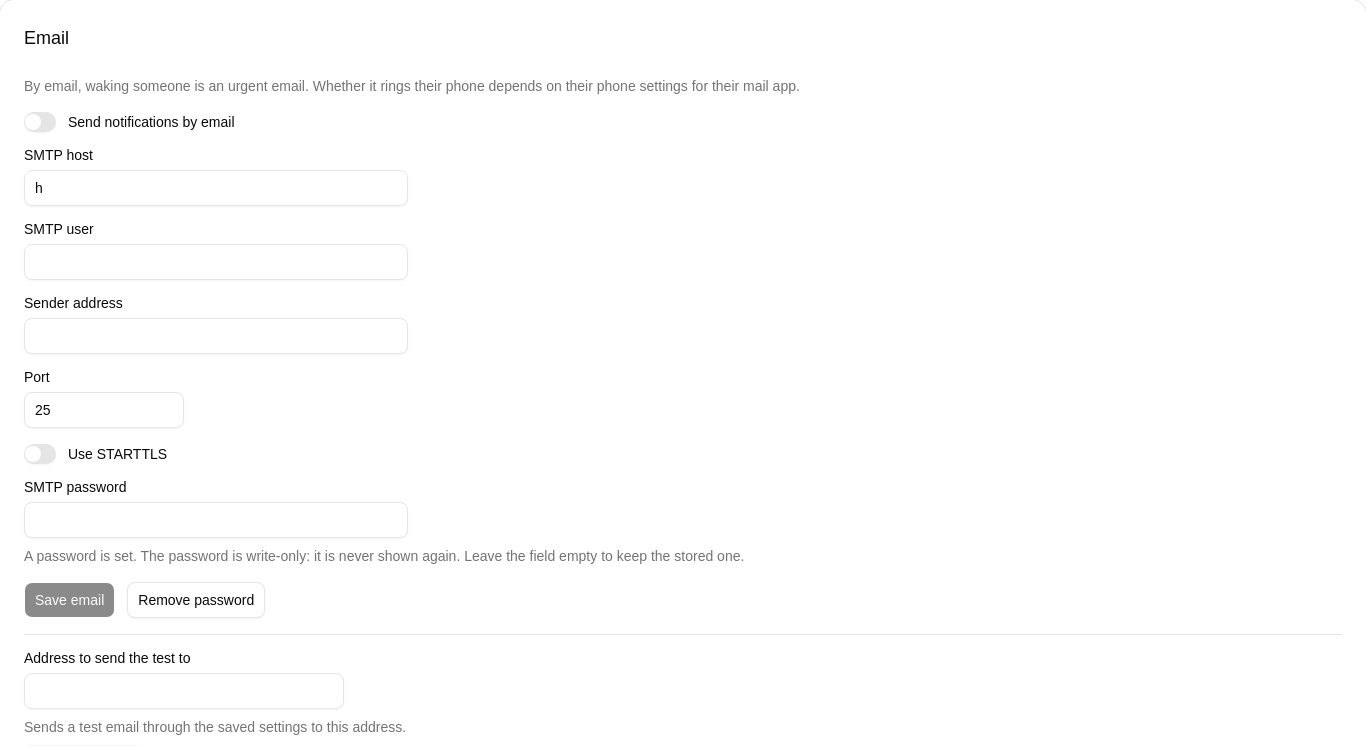
Scenario: sends a null password, keeping the stored one, when the field is empty
The image size is (1366, 746).
Click the switch named "Use STARTTLS" at point(40, 454), box top-left (24, 444), bottom-right (56, 464)
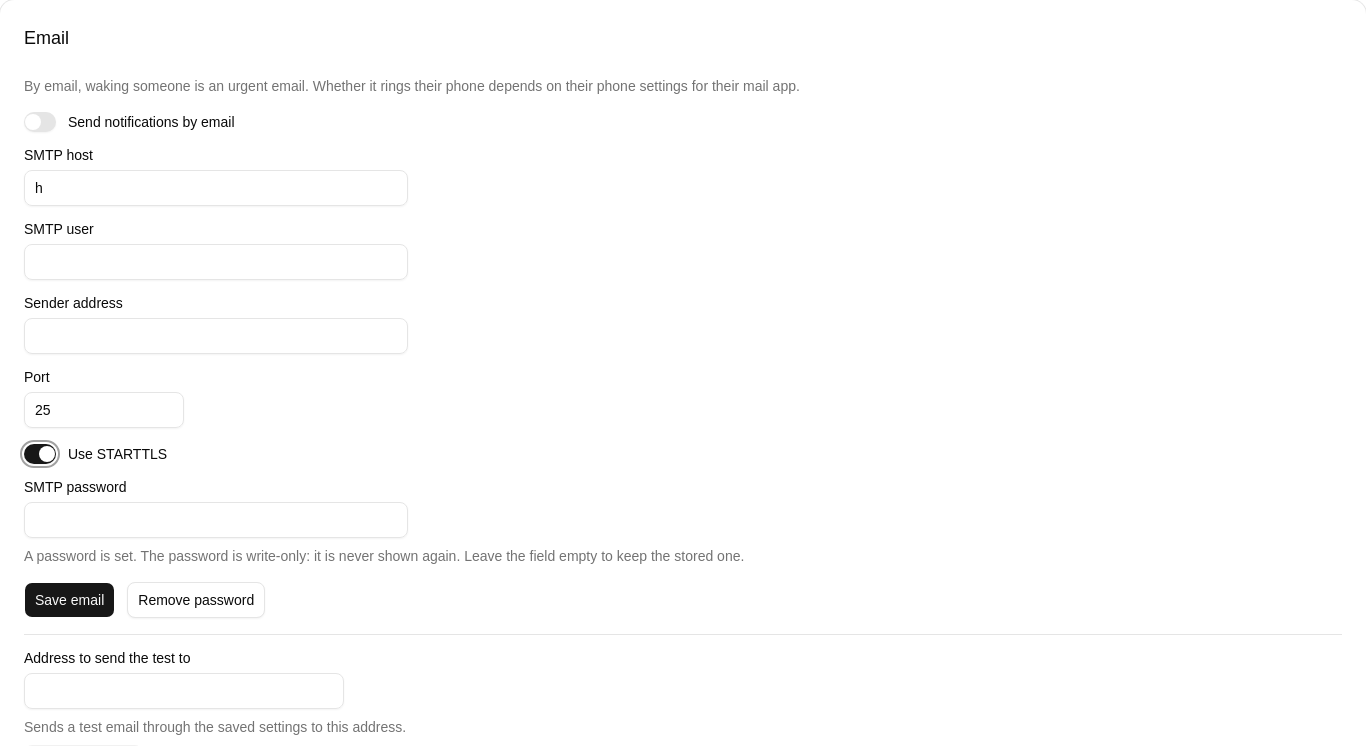
Click the button "Save email" at point(70, 600), box top-left (24, 582), bottom-right (115, 618)
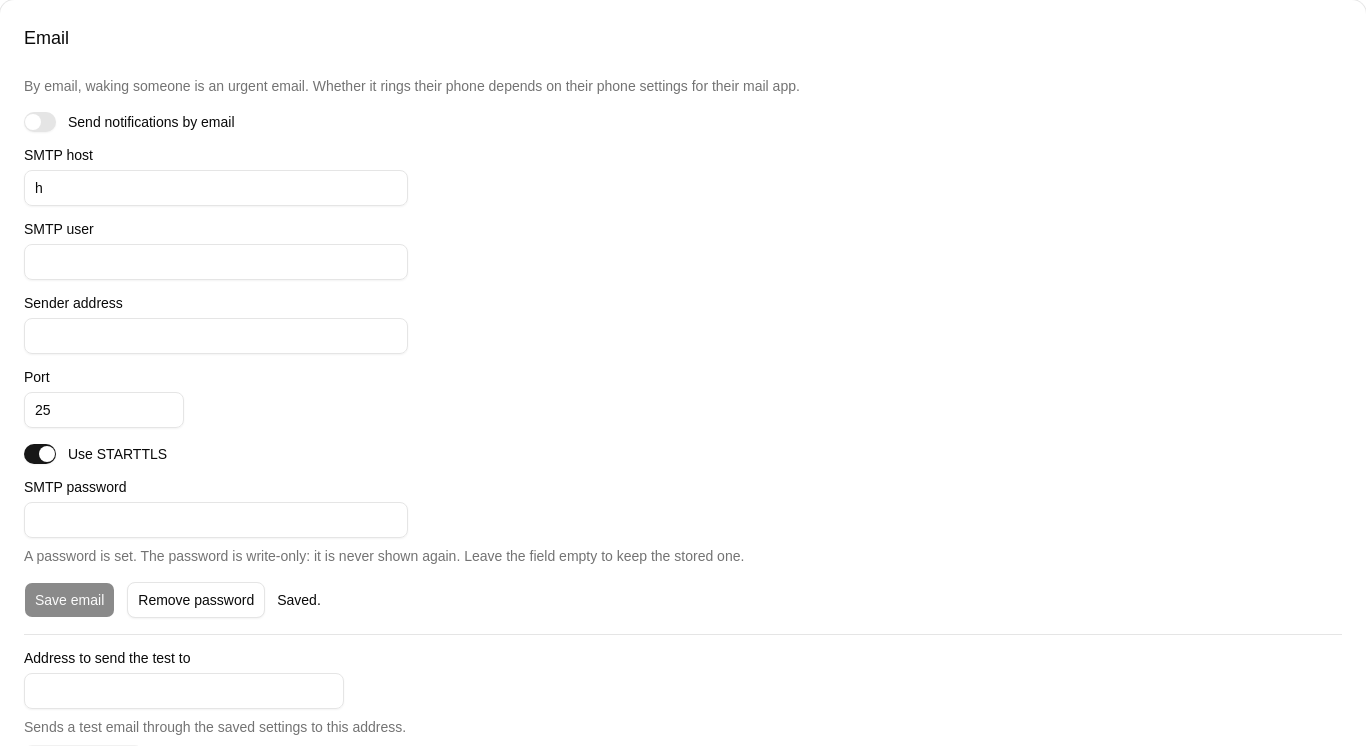
Now the text "Saved." is shown, box top-left (277, 590), bottom-right (321, 610)
